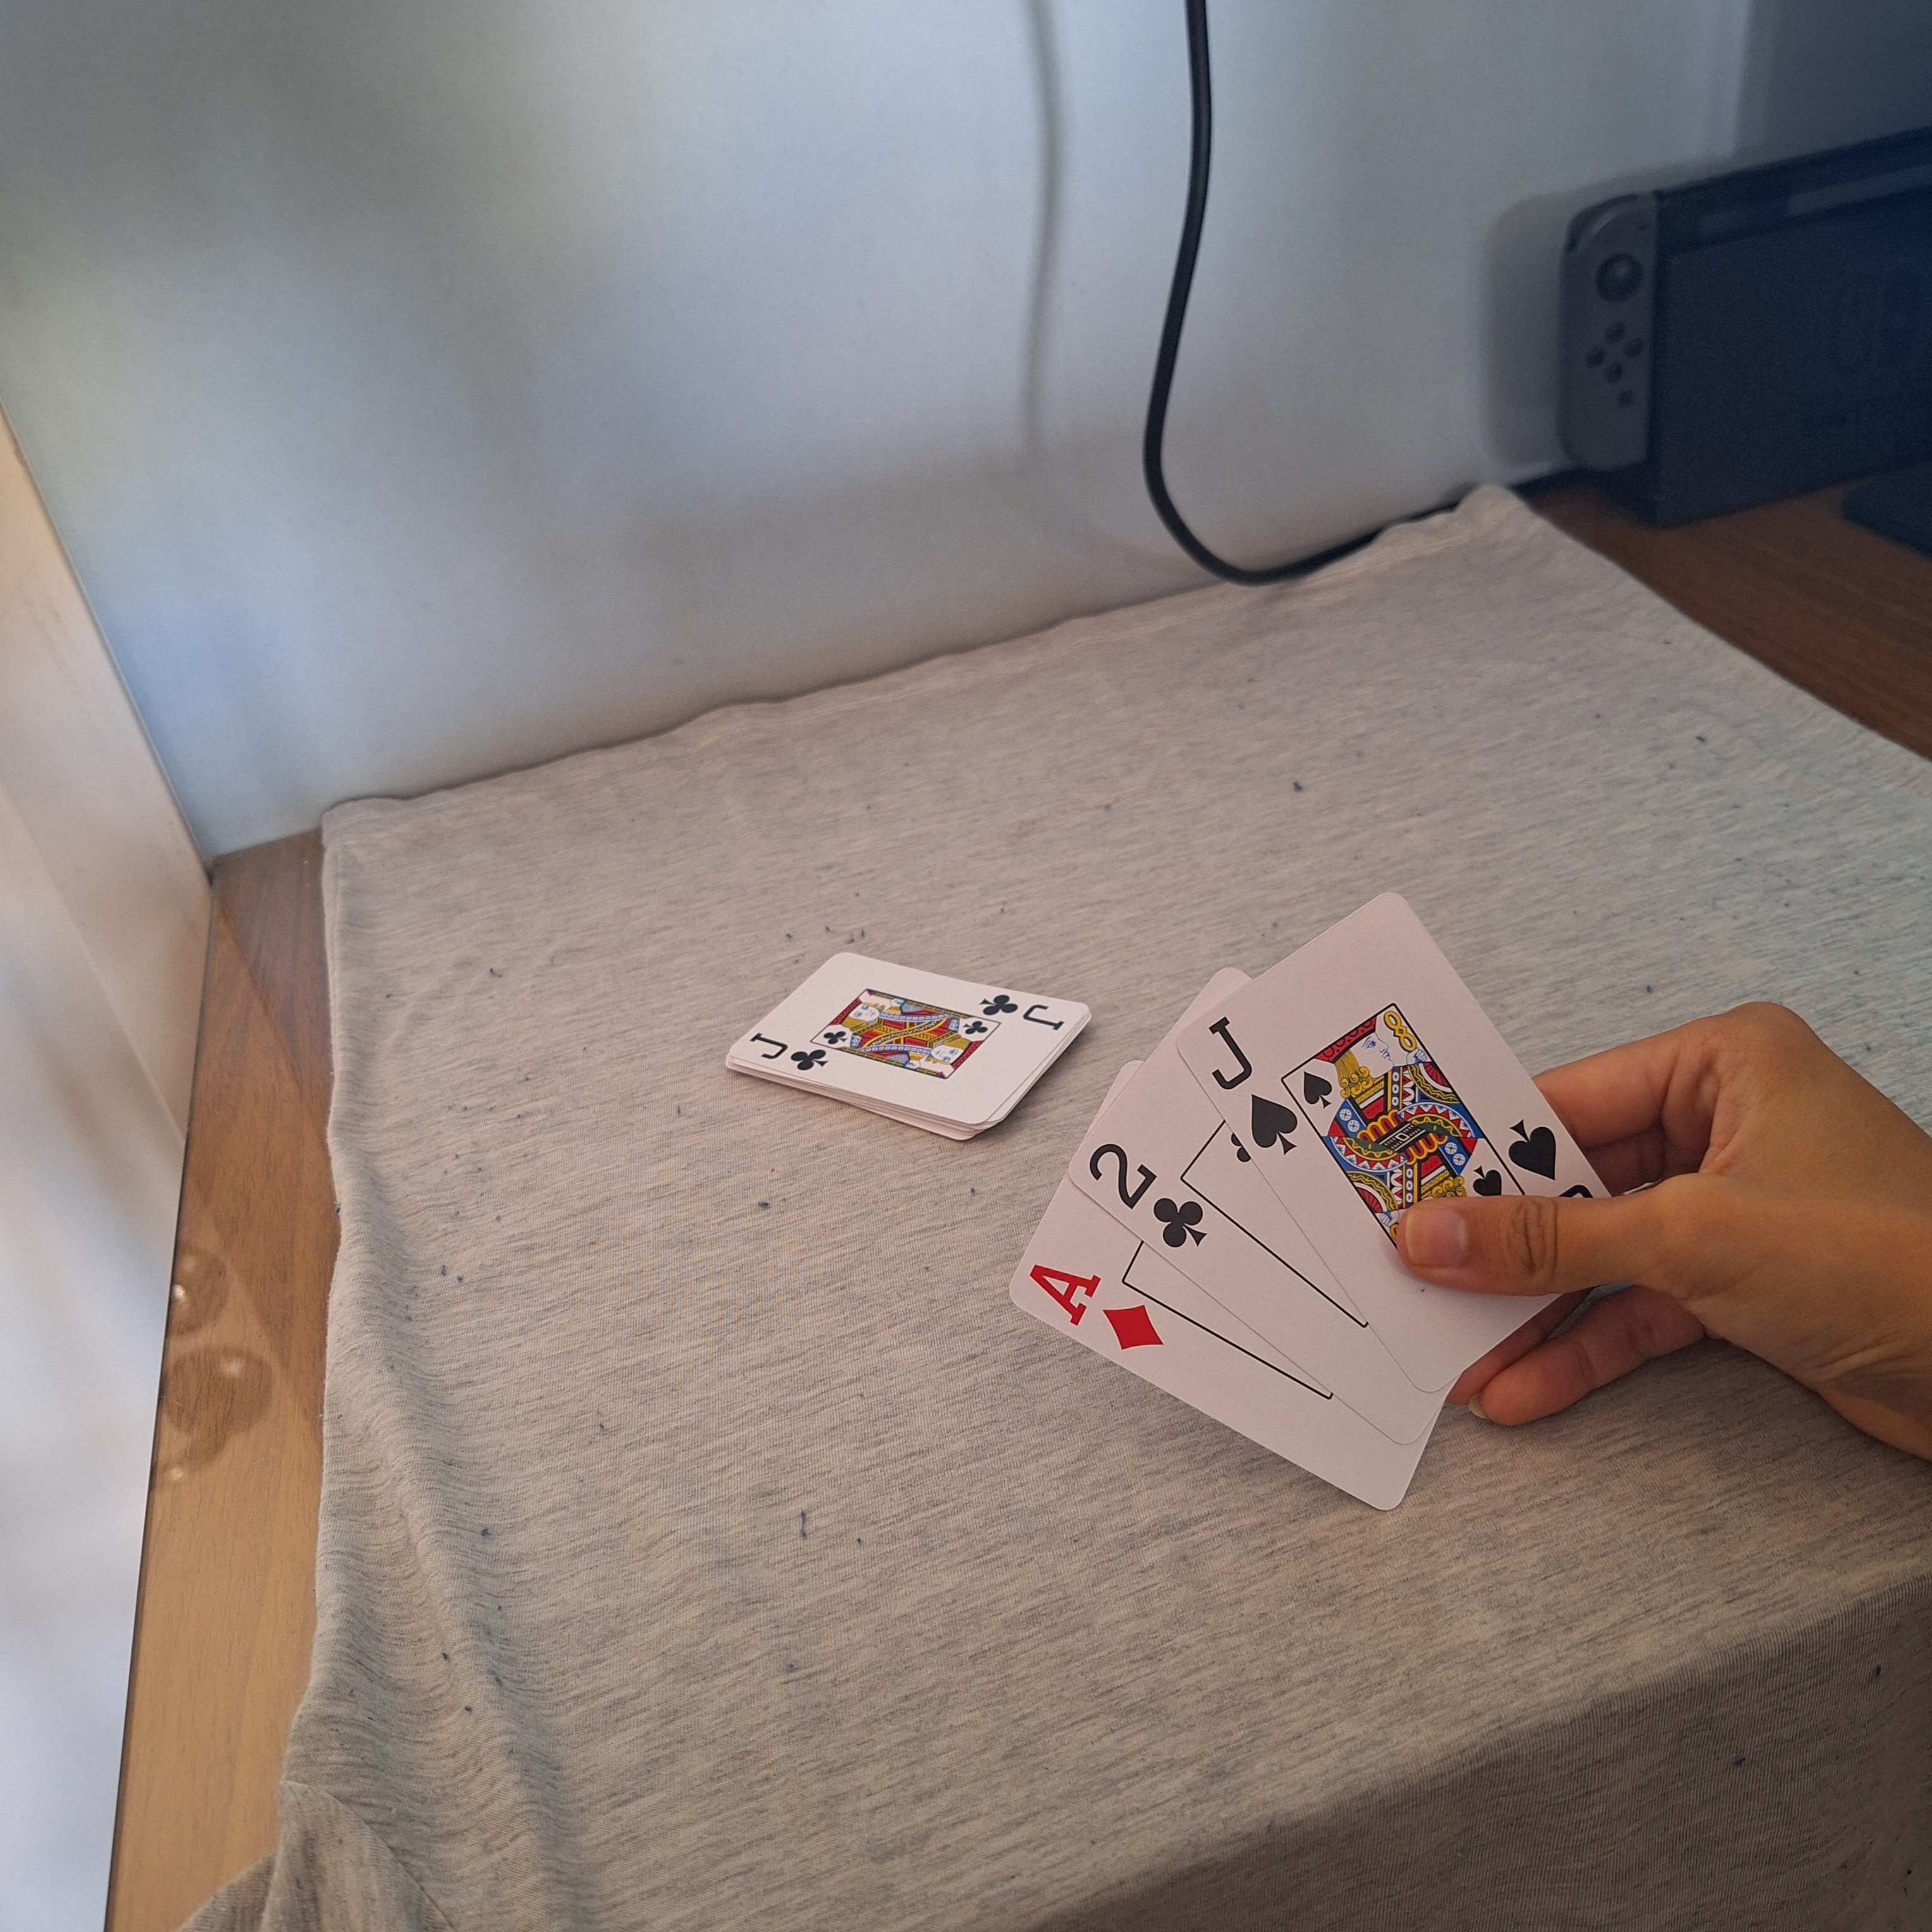2P: (1086, 1138, 1212, 1253)
AO: (1023, 1260, 1168, 1357)
JE: (1203, 1012, 1304, 1159)
JP: (745, 1030, 830, 1076), (978, 993, 1067, 1033)
